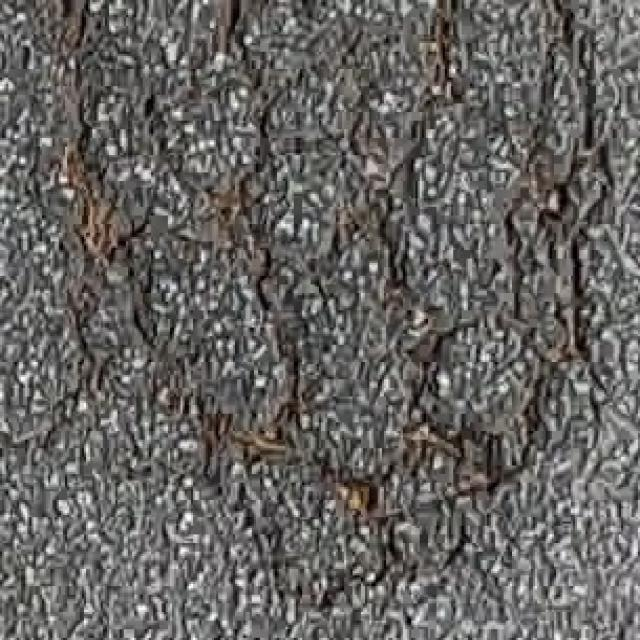GRIETA: (227, 0, 250, 61), (437, 0, 460, 50), (553, 0, 575, 43)
PIEL DE COCODRILO: (46, 42, 615, 640)
